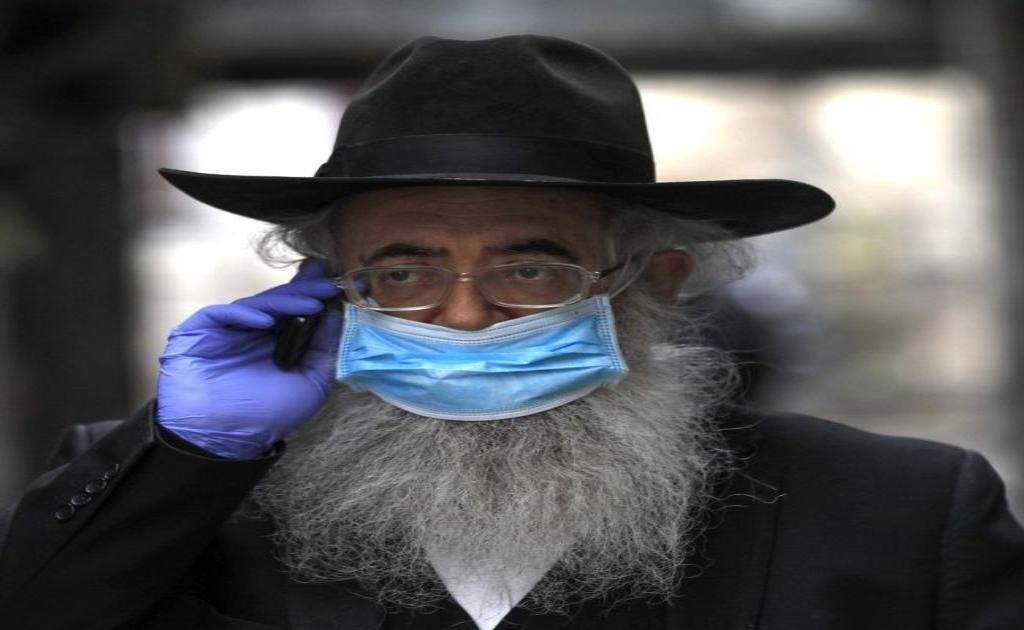mask_weared_incorrect: (310, 192, 687, 427)
